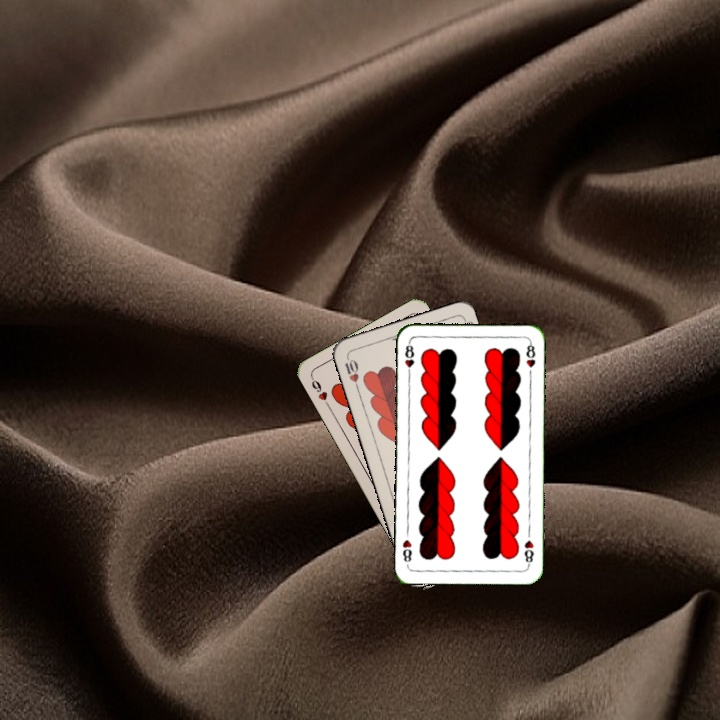H10: (340, 352, 361, 392)
H8: (401, 338, 416, 379), (520, 536, 537, 568)
H9: (307, 373, 332, 410)
